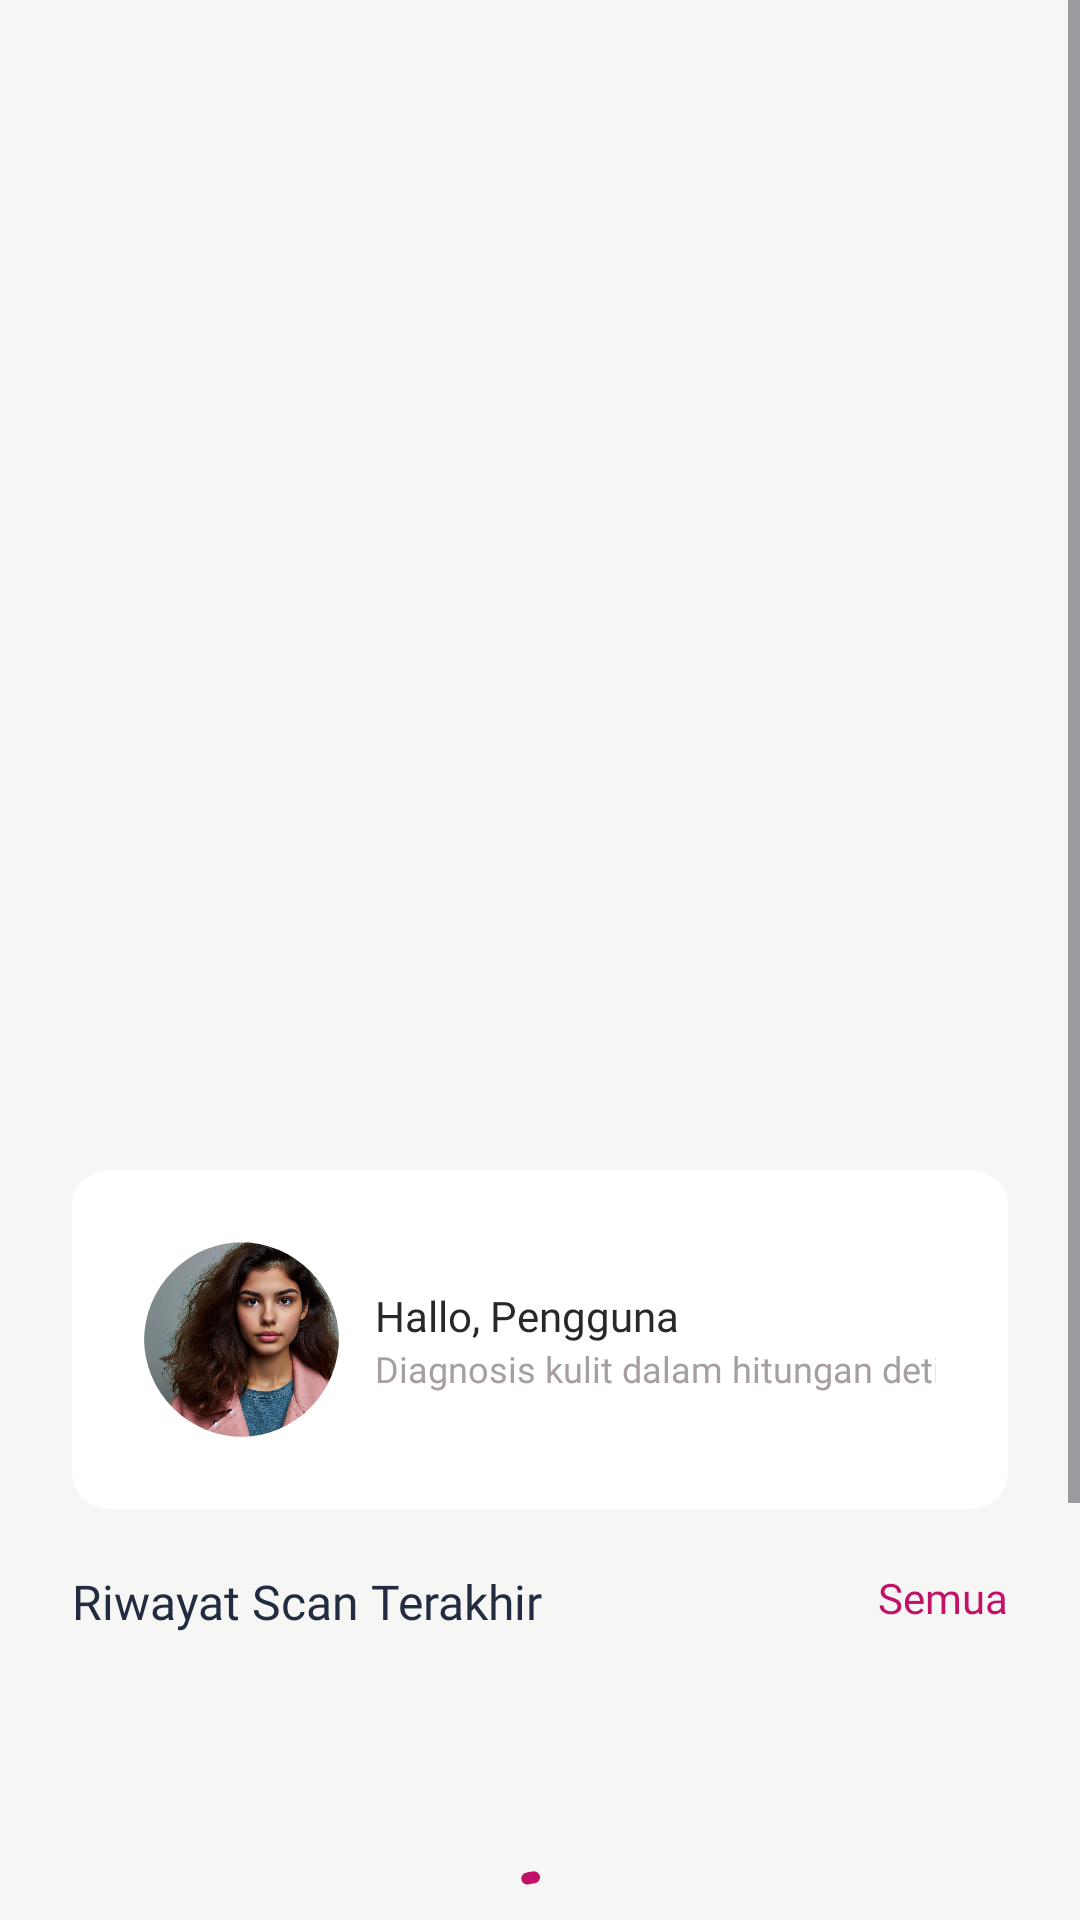

Where to tap for icons on this 1080*1920 app screen, as (x,y):
profile: (241,1339)
